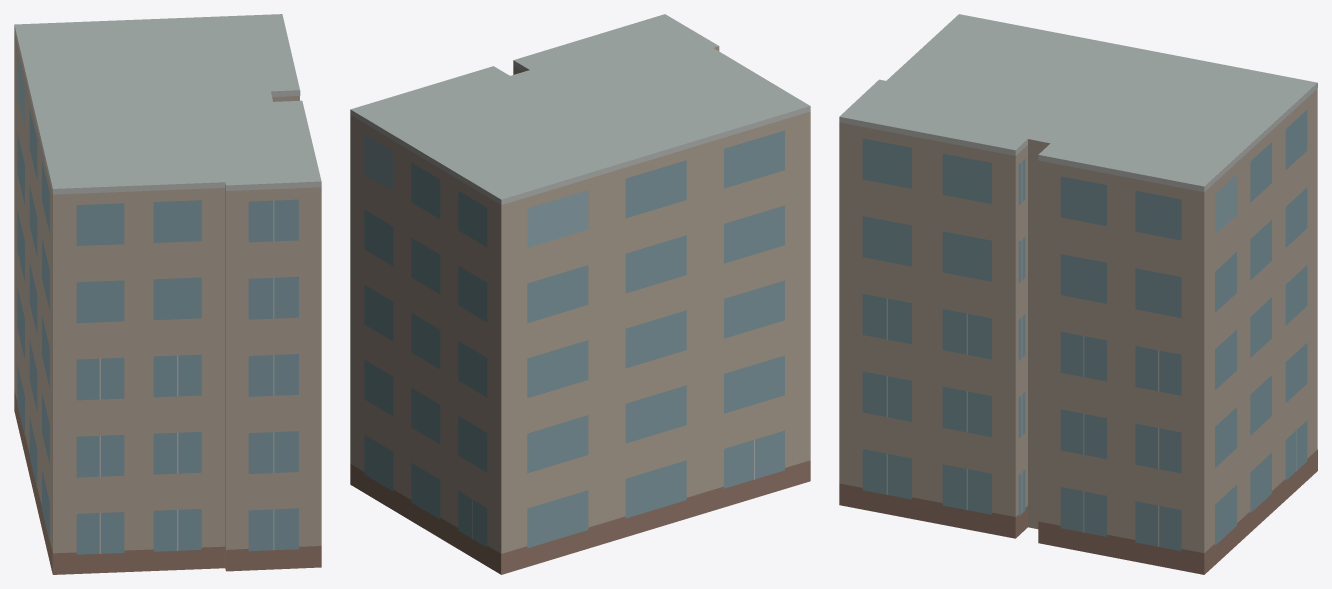
File: survey-upis-32529873.glb
3 renders of one model, left to right at view 1: azimuth 30°, elevation 25°; view 2: azimuth 150°, elevation 25°; view 3: azimuth 270°, elevation 25°, orthographic. The views are drawn at different scales.
Parts seen in each view (by area): view 1: survey-upis-32529873.tmp; view 2: survey-upis-32529873.tmp; view 3: survey-upis-32529873.tmp.
Part boxes in pixels (box(x1,y1,x2,y2)): survey-upis-32529873.tmp: box(14, 14, 321, 574); survey-upis-32529873.tmp: box(350, 14, 810, 574); survey-upis-32529873.tmp: box(839, 14, 1317, 574).
Size of the model in its own units: 15.88 by 16.65 by 18.6.
